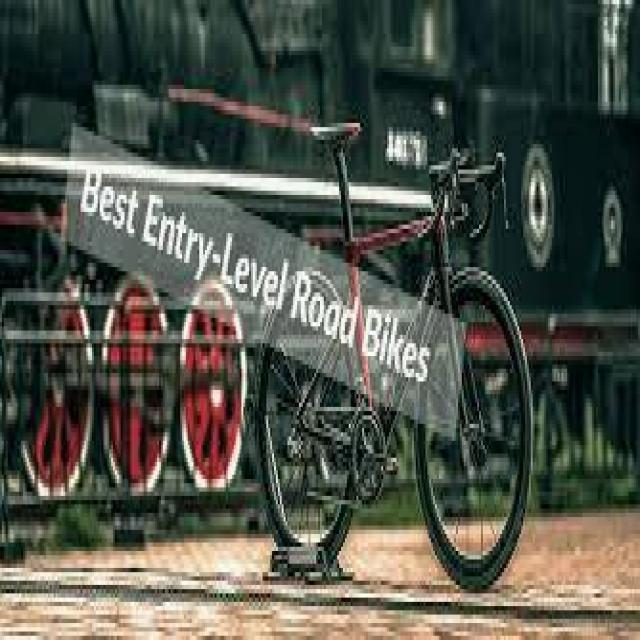bicycle: (250, 129, 534, 595)
